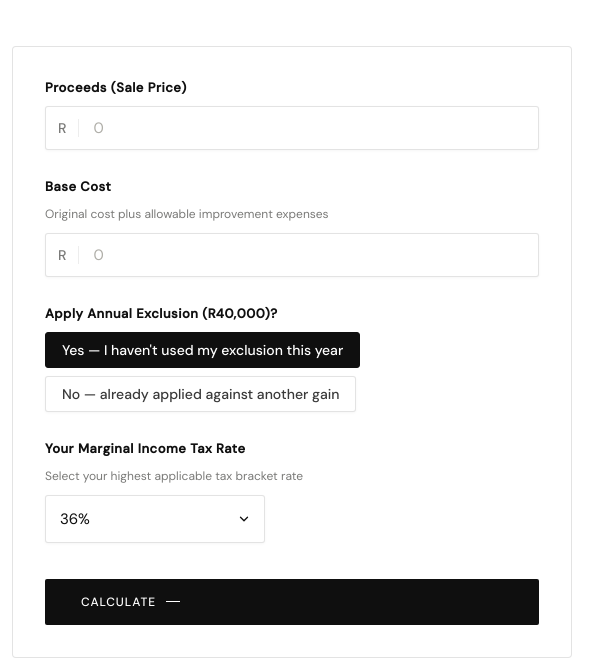
CgtCalculator › GIVEN a capital gain with the annual exclusion applied › WHEN proceeds exceed base cost and exclusion is applied, THEN results are shown
The image size is (594, 670).
Type "500000" into the number field with placeholder "0" below "Proceeds (Sale Price)" at (309, 128), box [80,106,538,148]
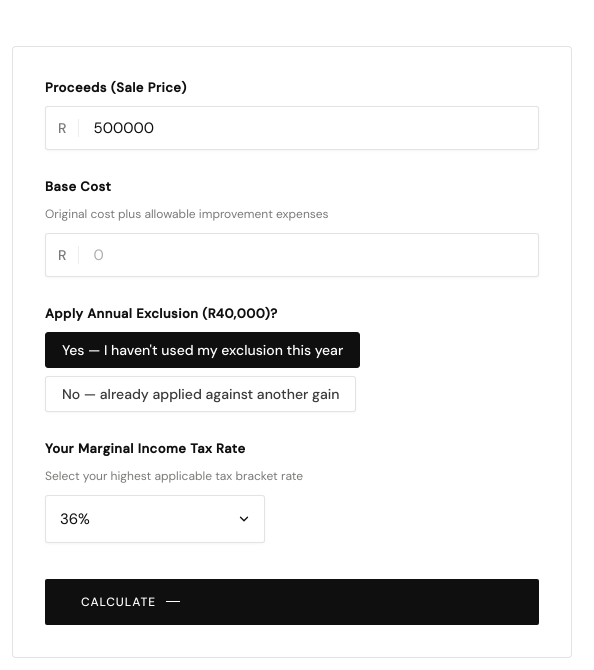
Type "200000" into the number field with placeholder "0" at (309, 254), box [80,234,538,276]
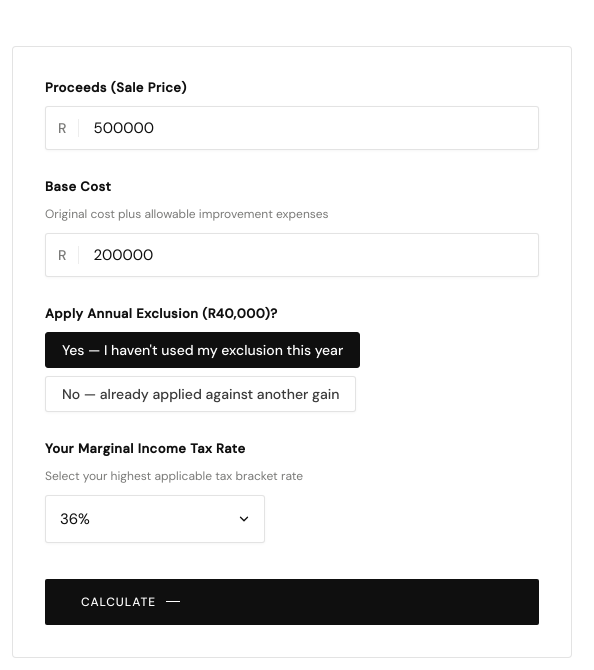
Select "36%" in the dropdown at (155, 518), box [45,494,265,542]
Click the button with class "calc-submit" at (119, 602), box [45,578,539,624]
(page scrolled)
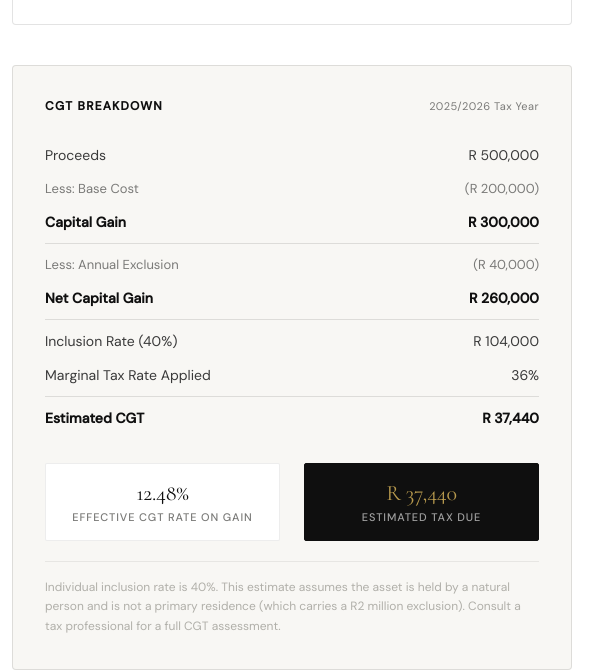
Expected: the element with class "calc-results" is shown
